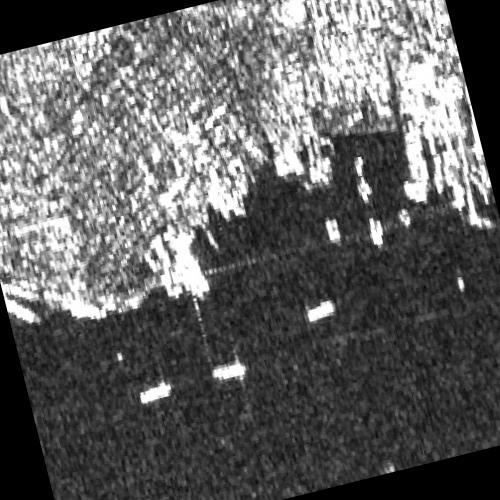ship: (140, 382, 173, 405), (211, 361, 247, 382), (306, 299, 335, 323)
